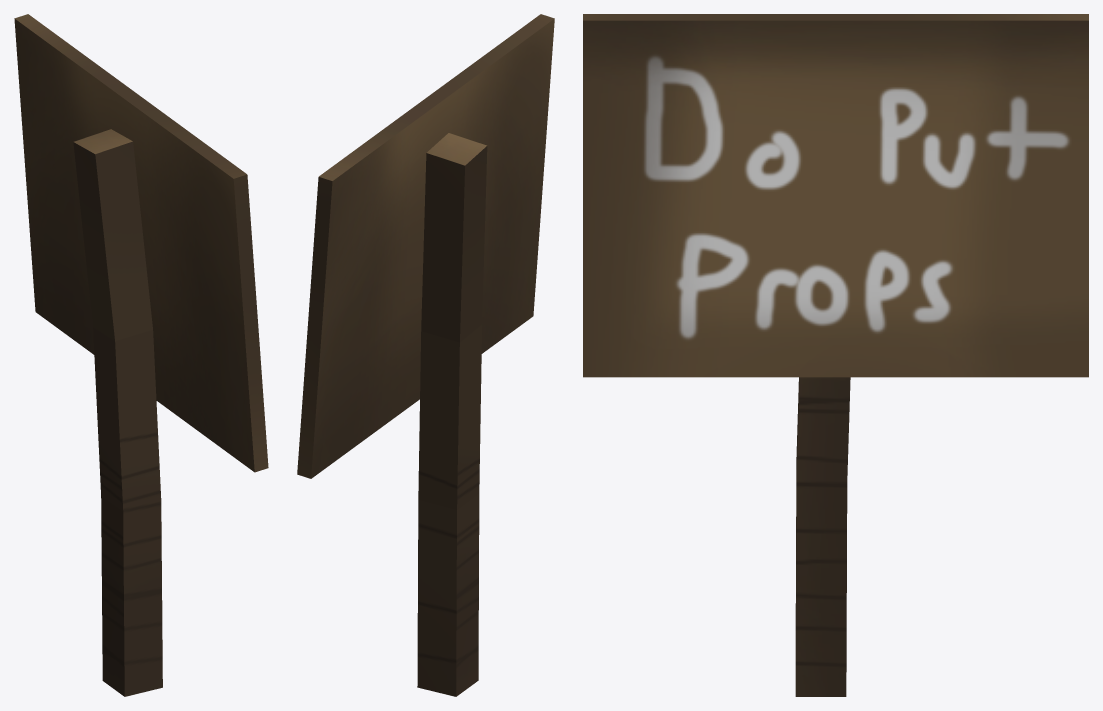
The model's file is placeholder-sign.fbx.
3 views of the same model, side by side, from view 1: azimuth 30°, elevation 25°; view 2: azimuth 150°, elevation 25°; view 3: azimuth 270°, elevation 25° (orthographic). The views are drawn at different scales.
Parts seen in each view (by area): view 1: Cube; view 2: Cube; view 3: Cube.
Part boxes in pixels (x1=…): Cube: x1=14, y1=14, x2=268, y2=696; Cube: x1=297, y1=14, x2=554, y2=696; Cube: x1=583, y1=14, x2=1088, y2=696.
Size of the model in its own units: 49.46 by 389 by 265.
Materials: 1 (1 with a texture image).
